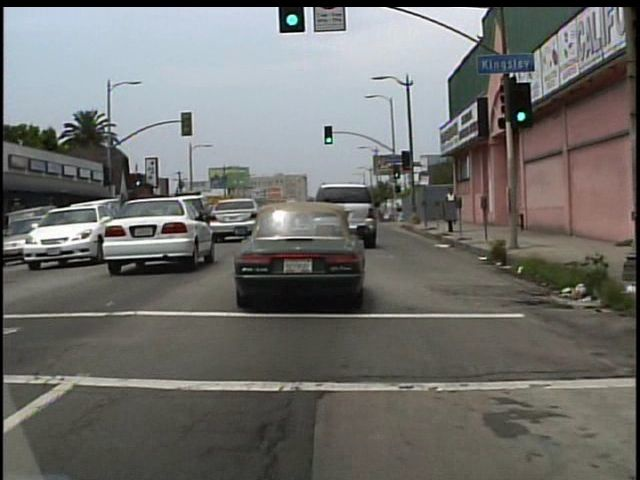person: (445, 186, 460, 224)
